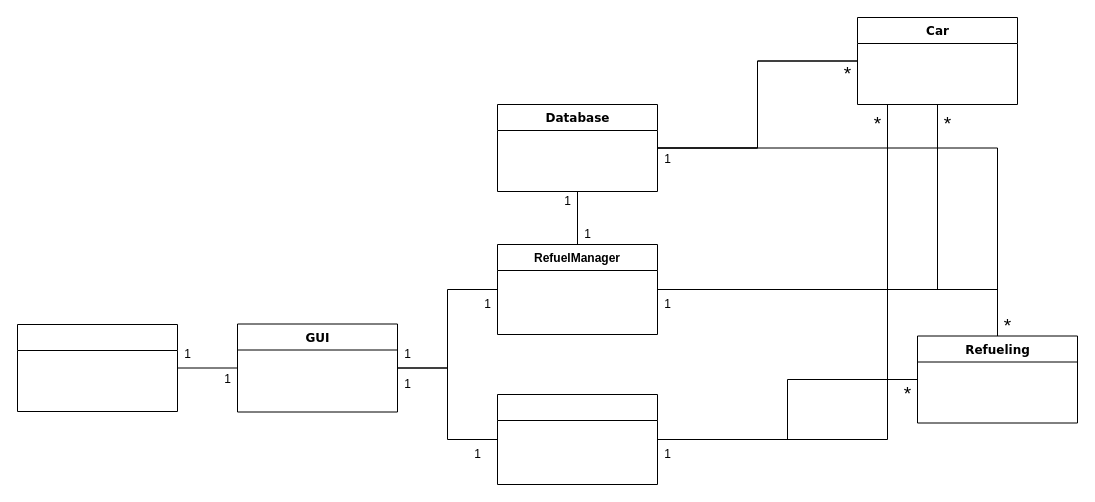
The diagram is 1095 pixels wide and 502 high, and some of its shapes have lost their labels. Each missing label, with the box of its shape:
Main: (16, 324, 178, 412)
StatisticsManager: (496, 394, 658, 484)
